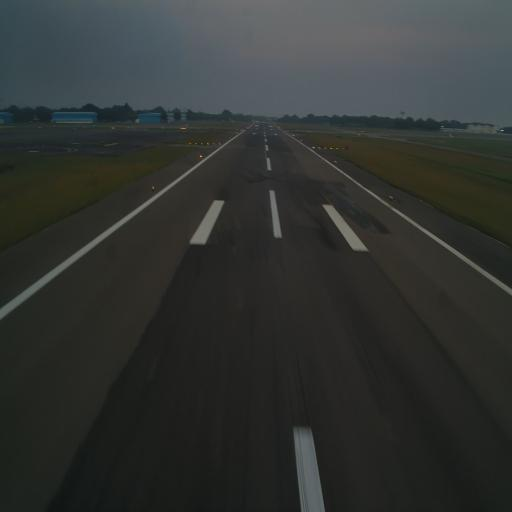on: (389, 193, 394, 200), (152, 184, 156, 192), (199, 154, 204, 160), (333, 159, 338, 165)
